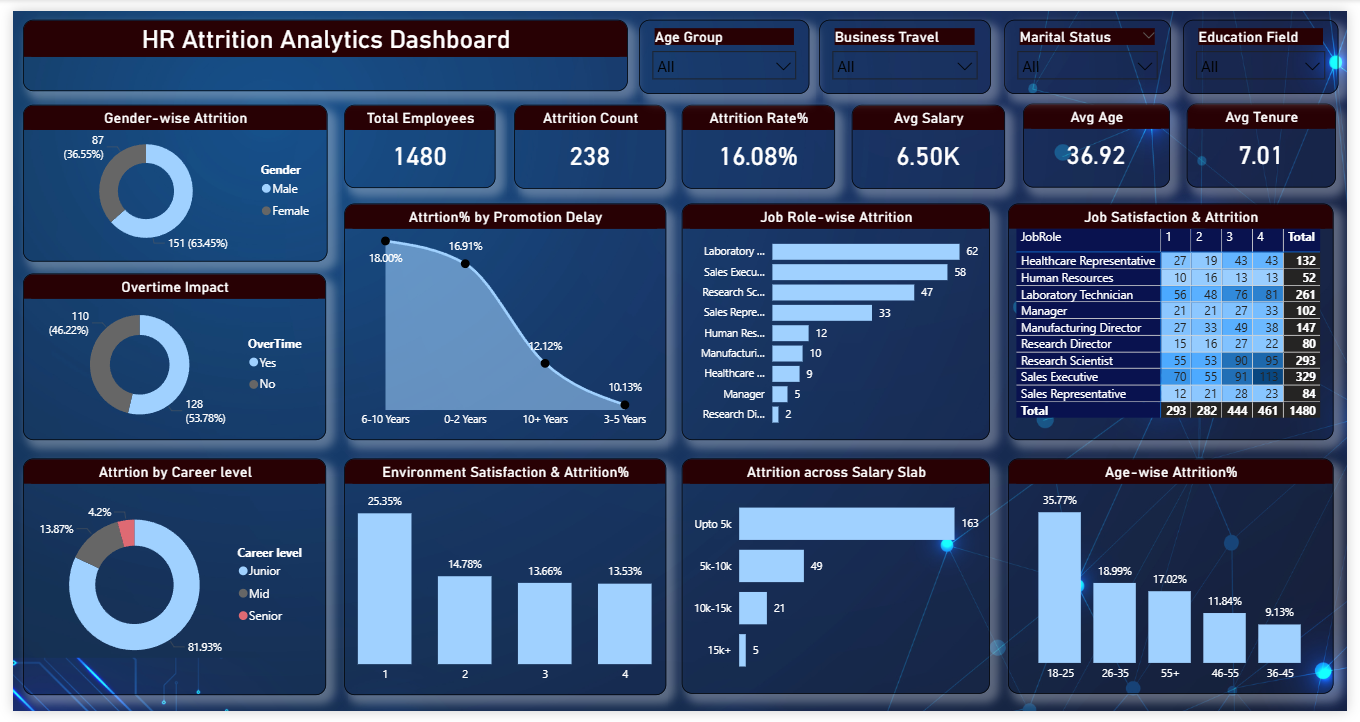

The page's visual inventory and layout, read from the dashboard file:
{"tool":"powerbi","page":{"name":"attrition analysis","canvas":[1525,800],"ordinal":0},"visuals":[{"type":"card","title":"Total Employees","fields":{"Values":["Sum(Hr_analyticss.EmployeeCount)"]},"box":[378.9,107,173,95],"z":0},{"type":"textbox","title":"HR Attrition Analytics Dashboard","box":[11.3,9.9,691.5,81.7],"z":1000},{"type":"card","title":" Attrition Count","fields":{"Values":["Sum(Hr_analyticss.AttritionCount)"]},"box":[573.2,107,173.2,95.8],"z":2000},{"type":"card","title":"Attrition Rate%","fields":{"Values":["Hr_analyticss.Attrtion_Rate"]},"box":[764.8,107,175,95.8],"z":3000},{"type":"card","title":"Avg Salary","fields":{"Values":["Avg(Hr_analyticss.MonthlyIncome)"]},"box":[959.2,107,175,95.8],"z":4000},{"type":"card","title":"Avg Tenure","fields":{"Values":["Avg(Hr_analyticss.YearsAtCompany)"]},"box":[1340.8,105.6,170,95.8],"z":5000},{"type":"card","title":"Avg Age","fields":{"Values":["Avg(Hr_analyticss.Age)"]},"box":[1154.9,105.6,167.6,95.8],"z":6000},{"type":"donutChart","title":" Gender-wise Attrition","fields":{"Category":["Hr_analyticss.Gender"],"Y":["Sum(Hr_analyticss.AttritionCount)"]},"box":[11.3,107,347.9,178.9],"z":7000},{"type":"slicer","title":"Age Group","fields":{"Values":["Hr_analyticss.AgeGroup"]},"box":[715.5,9.9,194.4,84.5],"z":8000},{"type":"slicer","fields":{"Values":["Hr_analyticss.MaritalStatus"]},"box":[1132.4,9.9,190.1,84.5],"z":9000},{"type":"slicer","fields":{"Values":["Hr_analyticss.BusinessTravel"]},"box":[921.1,9.9,195.8,84.5],"z":10000},{"type":"clusteredBarChart","title":"Job Role-wise Attrition","fields":{"Category":["Hr_analyticss.JobRole"],"Y":["Sum(Hr_analyticss.AttritionCount)"]},"box":[764.8,219.7,352.1,270.4],"z":11000},{"type":"clusteredColumnChart","title":"Age-wise Attrition%","fields":{"Category":["Hr_analyticss.AgeGroup"],"Y":["Hr_analyticss.Attrtion_Rate"]},"box":[1136.6,511.3,371.8,269],"z":12000},{"type":"clusteredBarChart","title":"Attrition across Salary Slab","fields":{"Category":["Hr_analyticss.SalarySlab"],"Y":["Sum(Hr_analyticss.AttritionCount)"]},"box":[764.8,511.3,352.1,269],"z":13000},{"type":"donutChart","title":"Overtime Impact","fields":{"Category":["Hr_analyticss.OverTime"],"Y":["Sum(Hr_analyticss.AttritionCount)"]},"box":[11.3,300,346.5,190.1],"z":14000},{"type":"pivotTable","title":"Job Satisfaction & Attrition","fields":{"Values":["CountNonNull(Hr_analyticss.EmployeeCount)"],"Columns":["Hr_analyticss.JobSatisfaction"],"Rows":["Hr_analyticss.JobRole"]},"box":[1136.6,219.7,371.8,270.4],"z":15000},{"type":"slicer","fields":{"Values":["Hr_analyticss.EducationField"]},"box":[1336.6,9.9,177.5,84.5],"z":16000},{"type":"clusteredColumnChart","title":"Environment Satisfaction & Attrition%","fields":{"Category":["Hr_analyticss.EnvironmentSatisfaction"],"Y":["Hr_analyticss.Attrtion_Rate"]},"box":[378.9,511.3,367.6,270.4],"z":17000},{"type":"areaChart","title":"Attrtion% by Promotion Delay","fields":{"Category":["Hr_analyticss.Promotion Gap Category"],"Y":["Hr_analyticss.Attrtion_Rate"]},"box":[378.9,219.7,367.6,270.4],"z":18000},{"type":"donutChart","title":"Attrtion by Career level","fields":{"Category":["Hr_analyticss.Career level"],"Y":["Sum(Hr_analyticss.AttritionCount)"]},"box":[11.3,511.3,346.5,270.4],"z":19000}]}

Visuals, with their boxes in screenshot pixels (x1, y1, x2, y2), scaled from the page's 1525x800 canvas onto the 1360x722 screenshot:
"Total Employees" card: 338 97 492 182
"HR Attrition Analytics Dashboard" textbox: 10 9 627 83
" Attrition Count" card: 511 97 666 183
"Attrition Rate%" card: 682 97 838 183
"Avg Salary" card: 855 97 1011 183
"Avg Tenure" card: 1196 95 1347 182
"Avg Age" card: 1030 95 1179 182
" Gender-wise Attrition" donutChart: 10 97 320 258
"Age Group" slicer: 638 9 811 85
slicer - Hr_analyticss.MaritalStatus: 1010 9 1179 85
slicer - Hr_analyticss.BusinessTravel: 821 9 996 85
"Job Role-wise Attrition" clusteredBarChart: 682 198 996 442
"Age-wise Attrition%" clusteredColumnChart: 1014 461 1345 704
"Attrition across Salary Slab" clusteredBarChart: 682 461 996 704
"Overtime Impact" donutChart: 10 271 319 442
"Job Satisfaction & Attrition" pivotTable: 1014 198 1345 442
slicer - Hr_analyticss.EducationField: 1192 9 1350 85
"Environment Satisfaction & Attrition%" clusteredColumnChart: 338 461 666 705
"Attrtion% by Promotion Delay" areaChart: 338 198 666 442
"Attrtion by Career level" donutChart: 10 461 319 705
